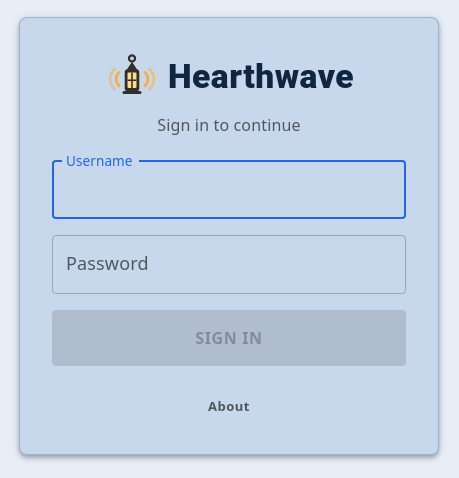
Scenario: LoginScreen › form behavior › shows loading spinner while submitting
In the field labelled "Username": (229, 190) top-left (52, 161), bottom-right (406, 220), type "Alice"
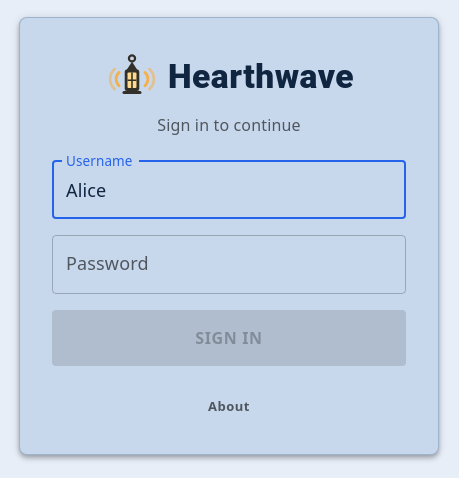
In the password field labelled "Password": (229, 265) top-left (52, 235), bottom-right (406, 294), type "mysecret"
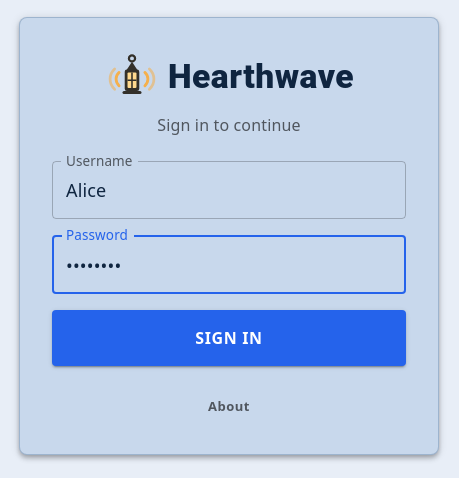
Click the button "Sign In": (229, 338) top-left (52, 310), bottom-right (406, 366)
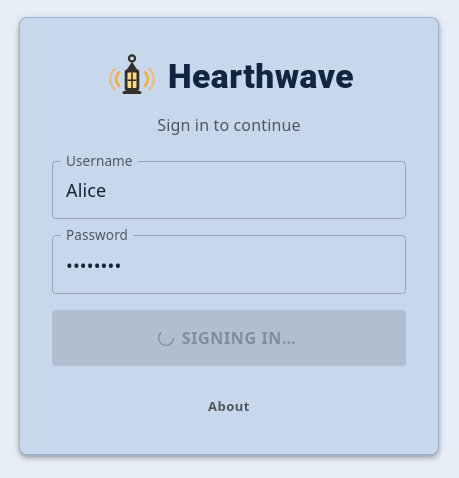
Result: the button "Signing in…" is shown at top-left (52, 310), bottom-right (406, 366)
